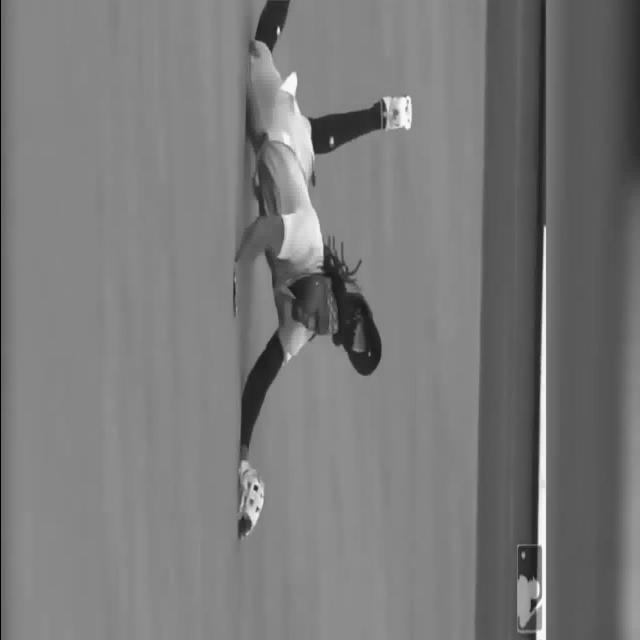baseball_glove: (234, 464, 260, 544)
shoe: (381, 98, 415, 134)
